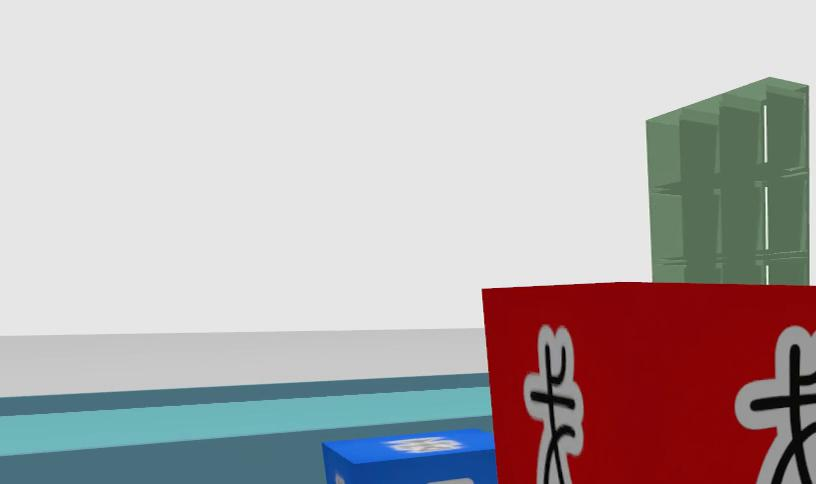KFS_FAKE: (483, 282, 816, 484), (735, 326, 816, 484), (524, 326, 582, 484)
KFS_REAL: (324, 429, 496, 484), (429, 479, 473, 484)
